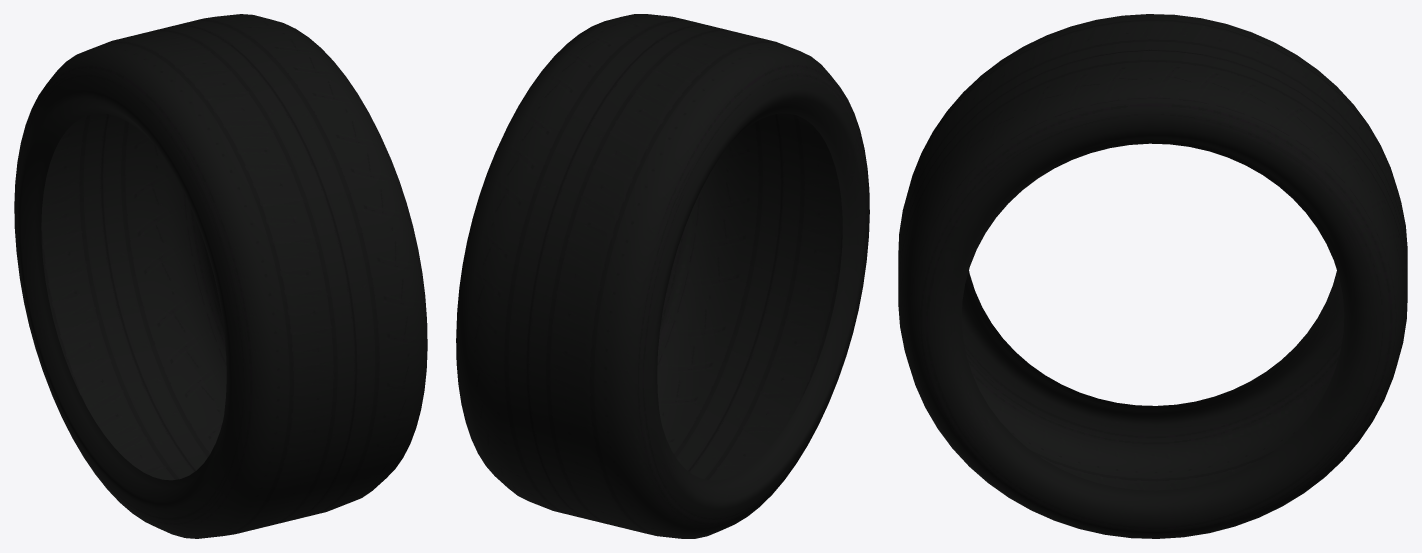
The model's file is wheel4.glb.
3 views of the same model, side by side, from view 1: azimuth 30°, elevation 25°; view 2: azimuth 150°, elevation 25°; view 3: azimuth 270°, elevation 25° (orthographic).
Parts seen in each view (by area): view 1: jag:Ani_Wheel_BR149_jag:dummy_material_0_020_0; view 2: jag:Ani_Wheel_BR149_jag:dummy_material_0_020_0; view 3: jag:Ani_Wheel_BR149_jag:dummy_material_0_020_0.
Boxes of the visible parts, <box> form: jag:Ani_Wheel_BR149_jag:dummy_material_0_020_0: <box>14,14,427,538</box>; jag:Ani_Wheel_BR149_jag:dummy_material_0_020_0: <box>456,14,869,538</box>; jag:Ani_Wheel_BR149_jag:dummy_material_0_020_0: <box>898,14,1407,538</box>.
Size of the model in its own units: 0.00295 by 0.00685 by 0.00685.
Materials: 1 (1 with a texture image).
